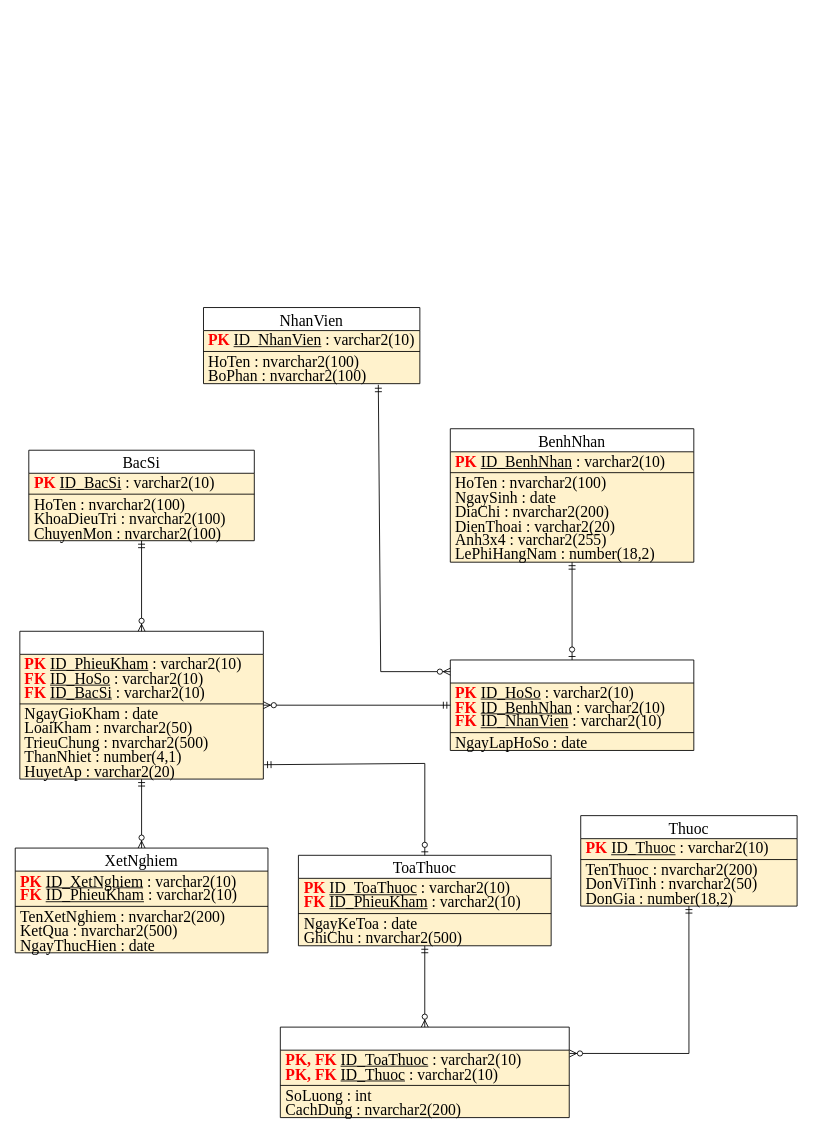
Some shapes in this 813 by 1134 pixel diagram are drawn without their labels. The shapes that lost their labels are listed below. From the top down, each one's box as (x1, y1, x2, y2) in pixels, then its label:
(19, 630, 263, 779): PhieuKhamBenh
(449, 659, 694, 750): HoSoBenhAn
(279, 1026, 569, 1118): ChiTietToaThuoc
